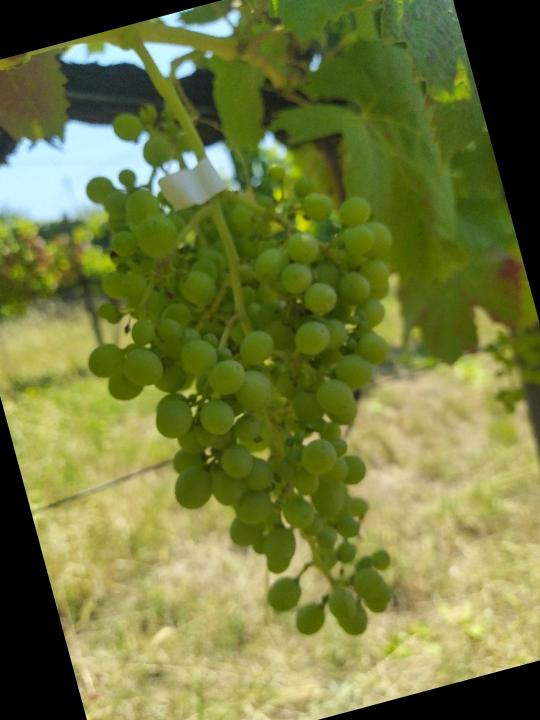grape: (41, 106, 494, 689)
